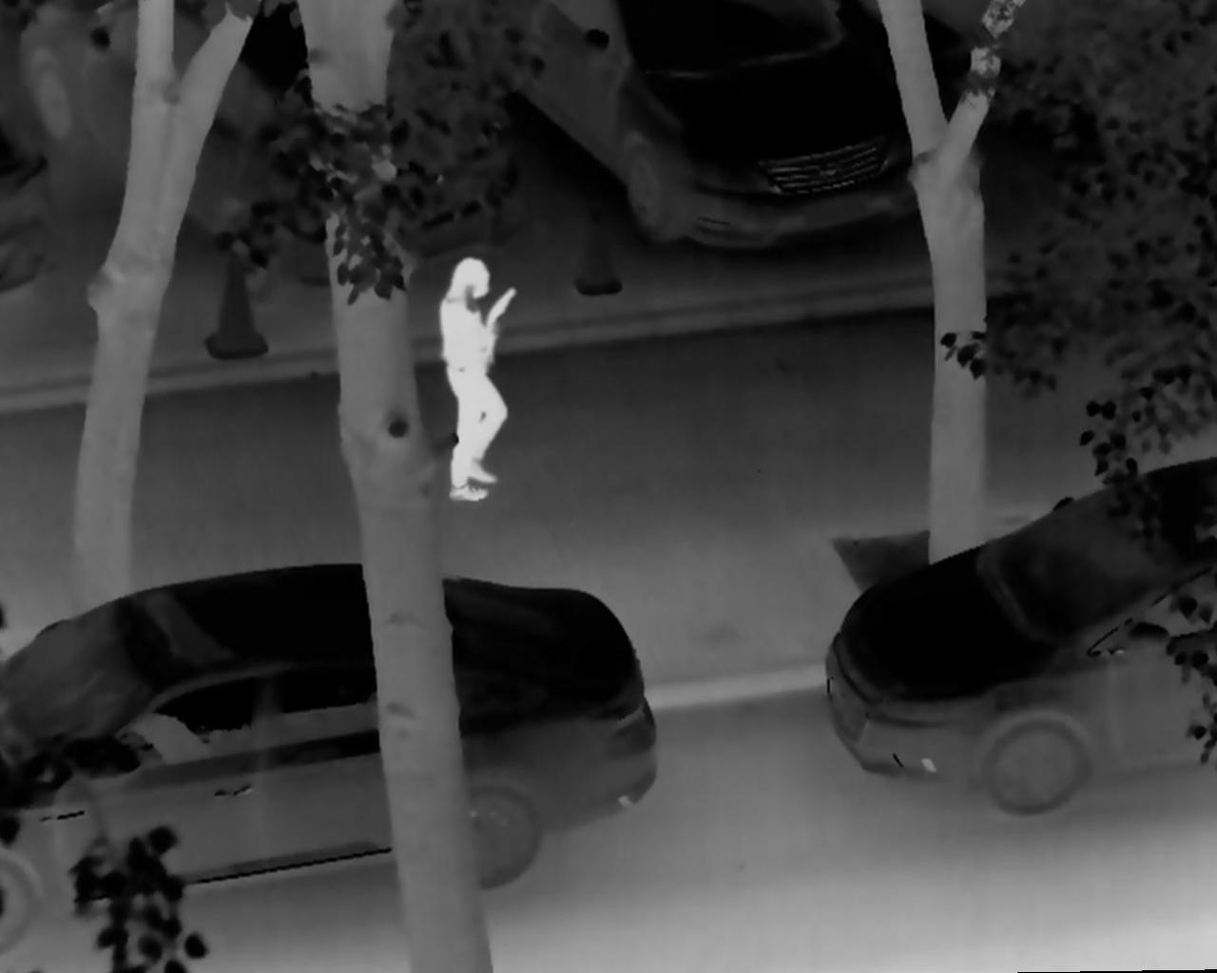person: (435, 256, 519, 505)
